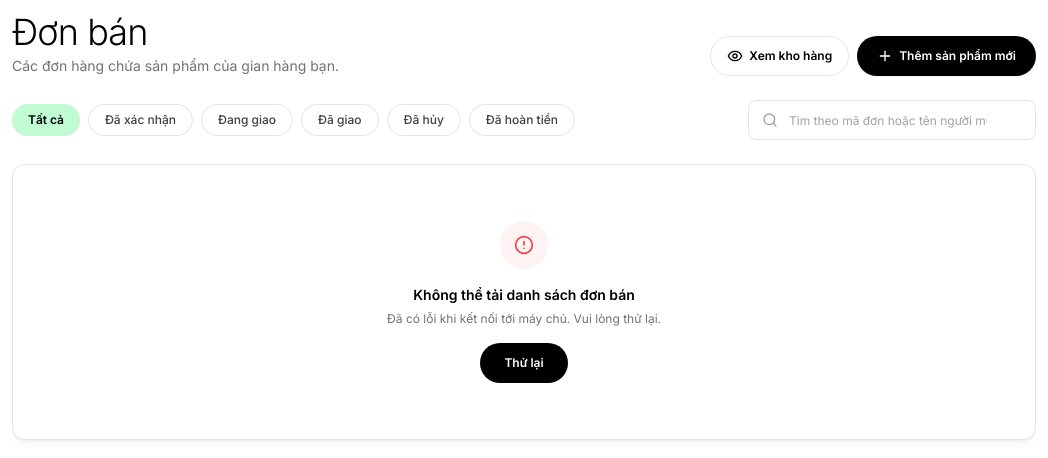
Test: SellerOrdersPage › API lỗi: hiện trạng thái lỗi và cho thử lại
Click the button "Thử lại".
click(524, 363)  # box [480, 343, 568, 383]
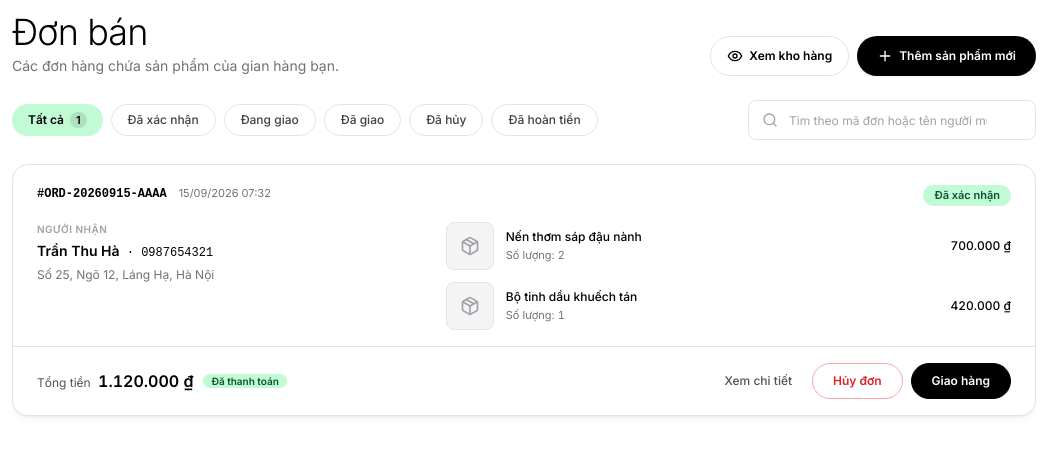
Now the element with test id "seller-order-card" is shown, box [12, 164, 1036, 416]
